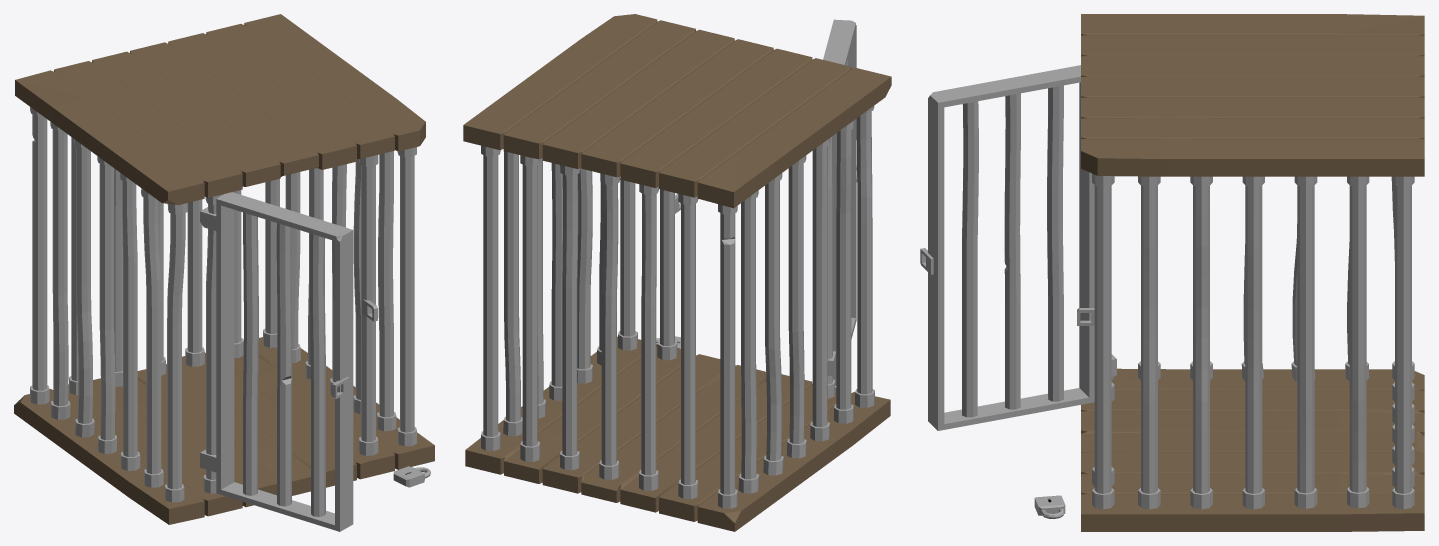
The model's file is Cage opened.fbx.
The picture shows the model from 3 angles, left to right: view 1: azimuth 30°, elevation 25°; view 2: azimuth 150°, elevation 25°; view 3: azimuth 270°, elevation 25°; orthographic projection. The views are drawn at different scales.
Visible parts, largest first — view 1: Cage opened; view 2: Cage opened; view 3: Cage opened.
Part boxes in pixels (<box>): Cage opened: <box>14,14,434,531</box>; Cage opened: <box>463,14,891,531</box>; Cage opened: <box>920,14,1424,531</box>.
Size of the model in its own units: 2.4 by 2.87 by 3.52.
